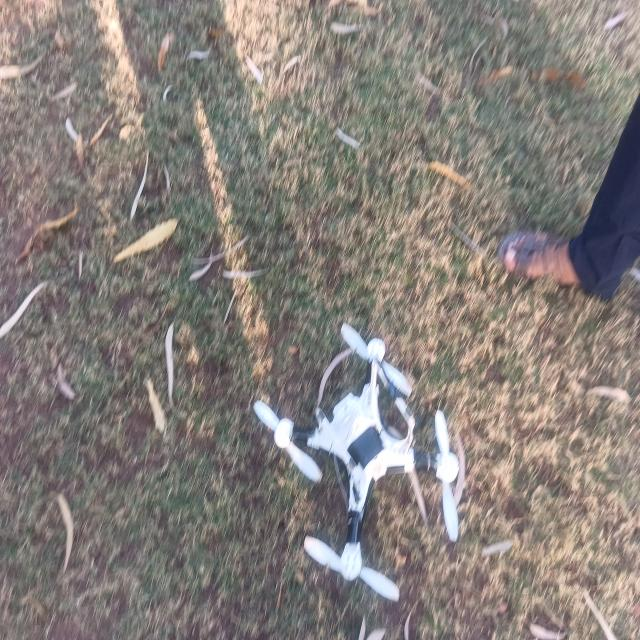drone: (267, 333, 479, 604)
